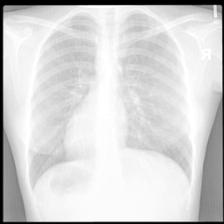tuberculosis: (24, 8, 196, 191)
